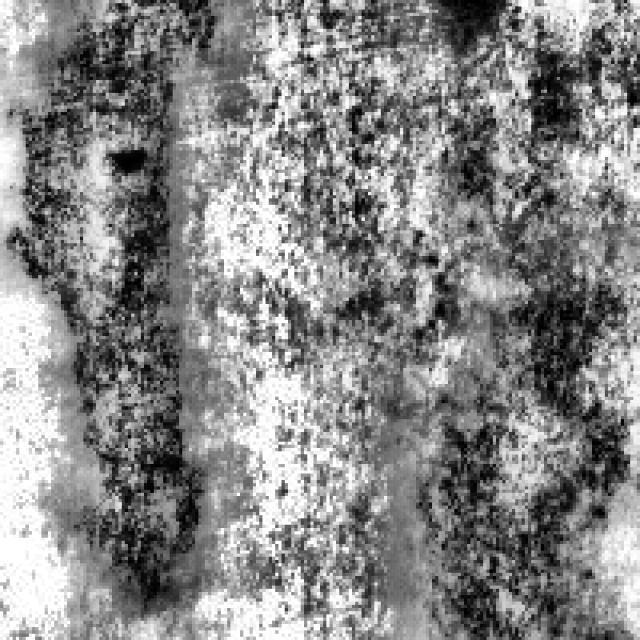Scratches: (7, 0, 212, 608), (416, 212, 624, 630)
